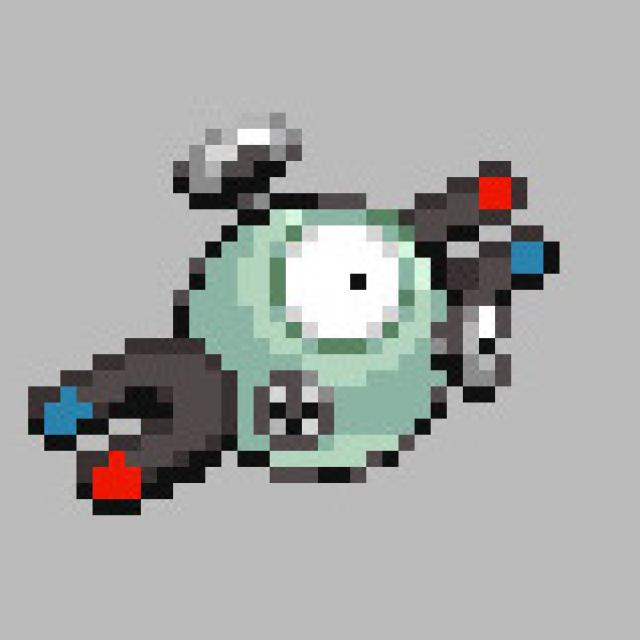Magnemite: (19, 118, 557, 516)
